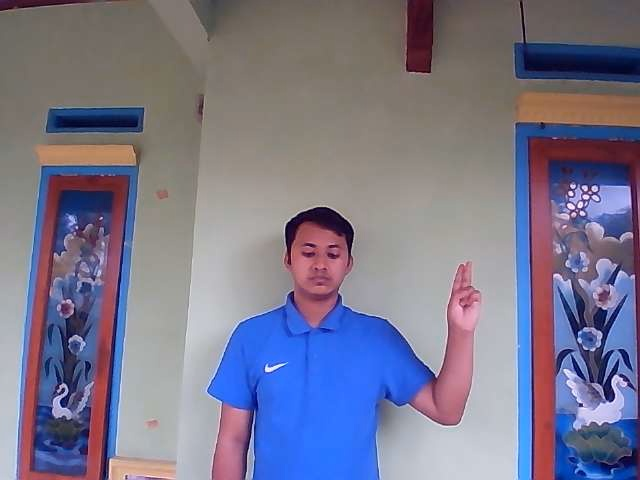U: (446, 260, 482, 331)
